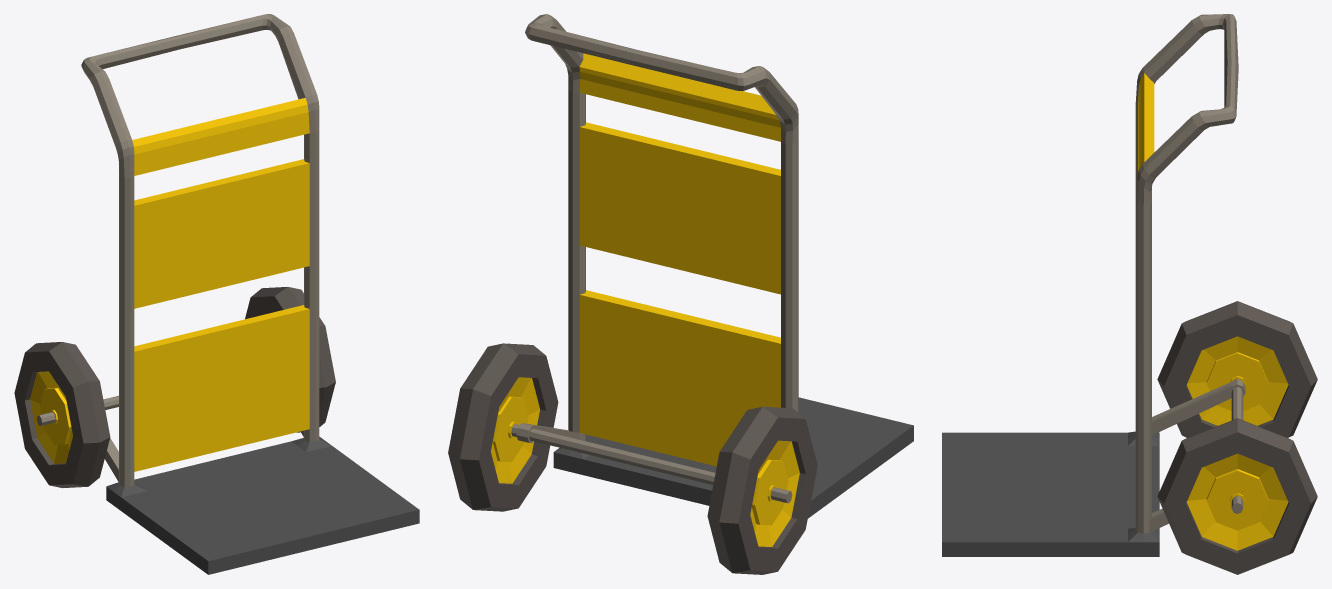
The model's file is hand_dolly.fbx.
The picture shows the model from 3 angles, left to right: view 1: azimuth 30°, elevation 25°; view 2: azimuth 150°, elevation 25°; view 3: azimuth 270°, elevation 25°; orthographic projection. The views are drawn at different scales.
Visible parts, largest first — view 1: SuperCub; view 2: SuperCub; view 3: SuperCub.
Part boxes in pixels (<box>): SuperCub: <box>14,14,419,574</box>; SuperCub: <box>448,14,913,574</box>; SuperCub: <box>942,14,1317,574</box>.
Bounding box in the file's own units: 80 × 120 × 90.
